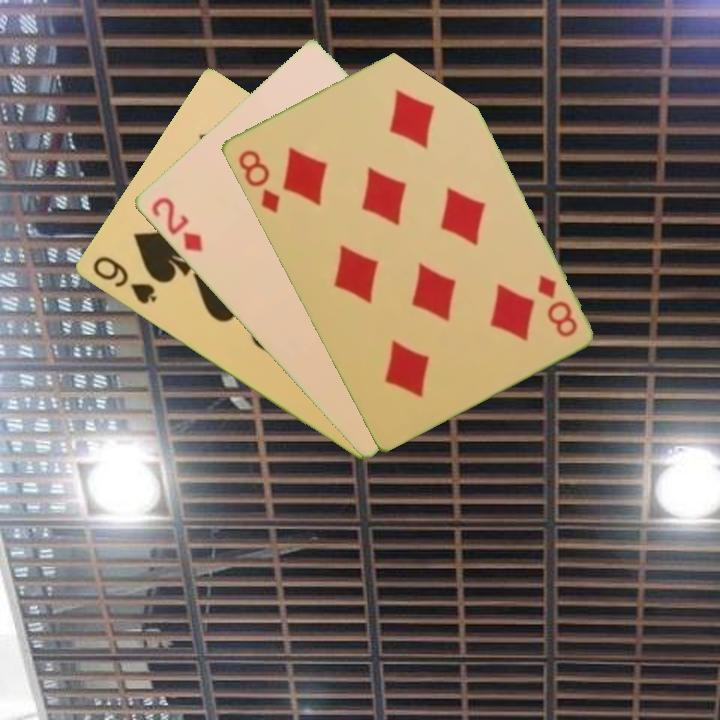2d: (147, 193, 205, 255)
8d: (234, 146, 282, 216), (533, 271, 580, 341)
9s: (88, 252, 160, 308)
